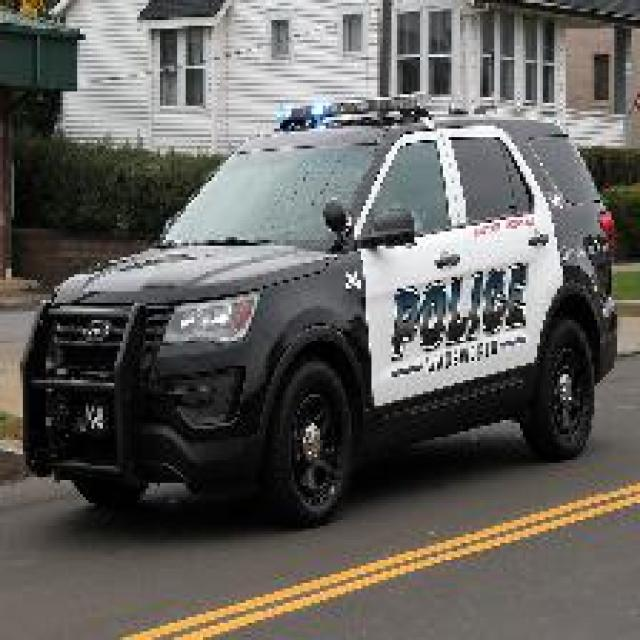Police-car: (17, 91, 620, 526)
